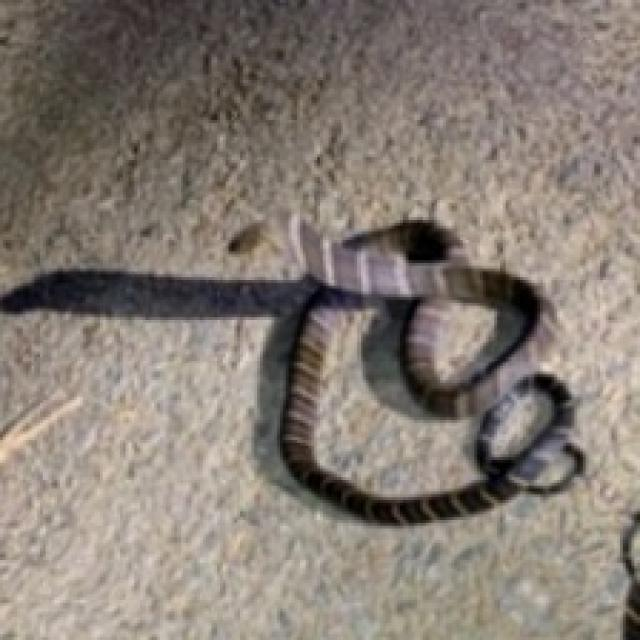king cobra: (0, 214, 583, 523)
